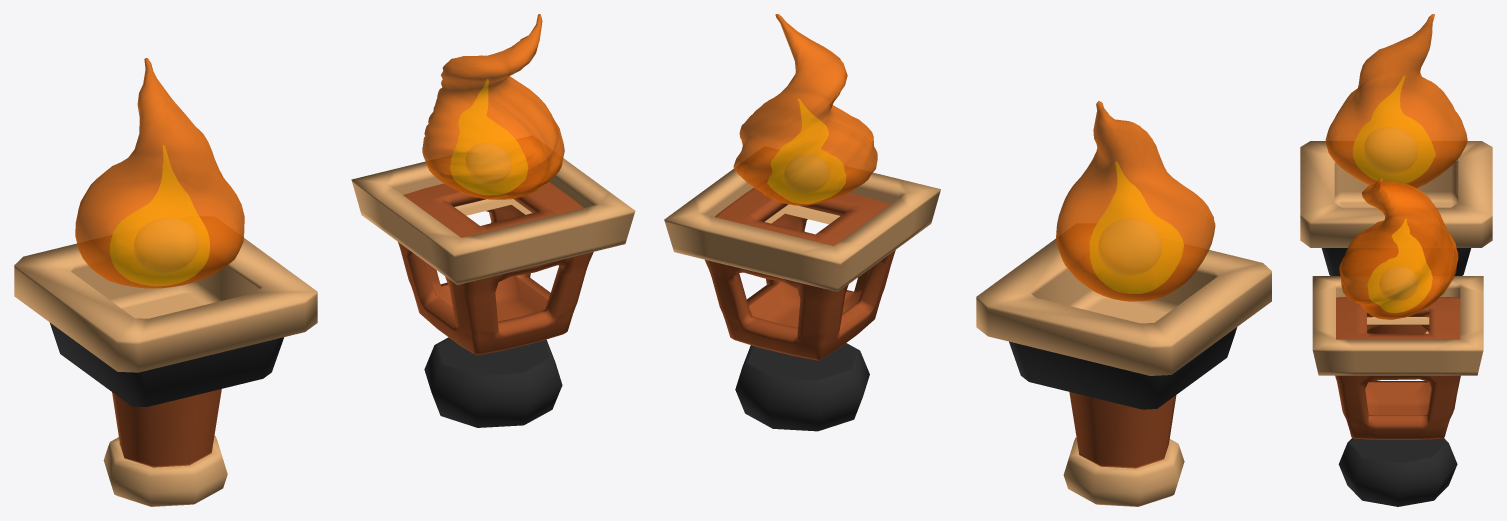
The model's file is torch_light.fbx.
3 renders of one model, left to right at view 1: azimuth 30°, elevation 25°; view 2: azimuth 150°, elevation 25°; view 3: azimuth 270°, elevation 25°, orthographic. The views are drawn at different scales.
Parts seen in each view (by area): view 1: torch_tray, fire.001, Cube.016, fire.002, torch_base.001, torch_base, Cylinder.017, fire_outer.001, fire.003; view 2: torch_tray, fire.001, Cube.016, torch_base.001, fire.002, torch_base, Cylinder.017, fire_outer.001, fire.003; view 3: fire.001, torch_tray, fire.002, torch_base.001, Cube.016, Cylinder.017, fire_outer.001, fire.003, torch_base.
Part boxes in pixels (left/top/right/bottom): torch_tray: left=14, top=238, right=317, bottom=406; fire.001: left=75, top=58, right=244, bottom=288; Cube.016: left=351, top=158, right=635, bottom=284; fire.002: left=422, top=14, right=564, bottom=199; torch_base.001: left=398, top=181, right=593, bottom=355; torch_base: left=103, top=389, right=227, bottom=506; Cylinder.017: left=424, top=337, right=562, bottom=427; fire_outer.001: left=110, top=145, right=209, bottom=285; fire.003: left=450, top=79, right=527, bottom=194; torch_tray: left=976, top=238, right=1271, bottom=409; fire.001: left=1056, top=101, right=1215, bottom=301; Cube.016: left=664, top=169, right=940, bottom=291; torch_base.001: left=705, top=187, right=895, bottom=360; fire.002: left=733, top=14, right=877, bottom=205; torch_base: left=1063, top=392, right=1184, bottom=506; Cylinder.017: left=735, top=343, right=869, bottom=431; fire_outer.001: left=1090, top=162, right=1183, bottom=293; fire.003: left=767, top=98, right=845, bottom=203; fire.001: left=1325, top=14, right=1467, bottom=188; torch_tray: left=1300, top=141, right=1492, bottom=275; fire.002: left=1339, top=178, right=1458, bottom=319; torch_base.001: left=1335, top=297, right=1460, bottom=439; Cube.016: left=1312, top=276, right=1483, bottom=375; Cylinder.017: left=1338, top=438, right=1457, bottom=506; fire_outer.001: left=1353, top=76, right=1435, bottom=183; fire.003: left=1367, top=219, right=1432, bottom=312; torch_base: left=1367, top=325, right=1428, bottom=333.
Bounding box in the file's own units: 366 × 275 × 141.
